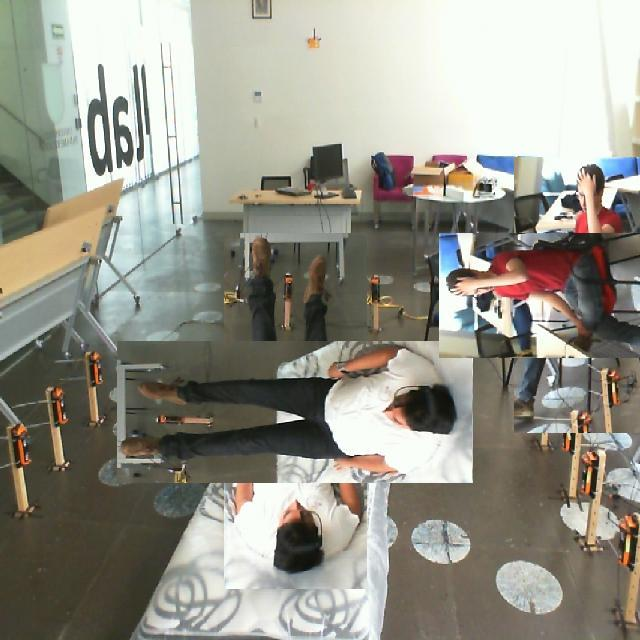Fall: (134, 350, 487, 488)
NotFall: (440, 224, 640, 364)
